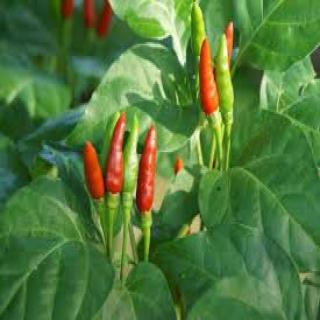Cabai Hijau: (186, 3, 207, 96), (123, 114, 140, 206), (216, 36, 235, 116)
Cabai Merah: (105, 109, 126, 195), (137, 124, 157, 214), (199, 39, 220, 116), (82, 142, 108, 202)
